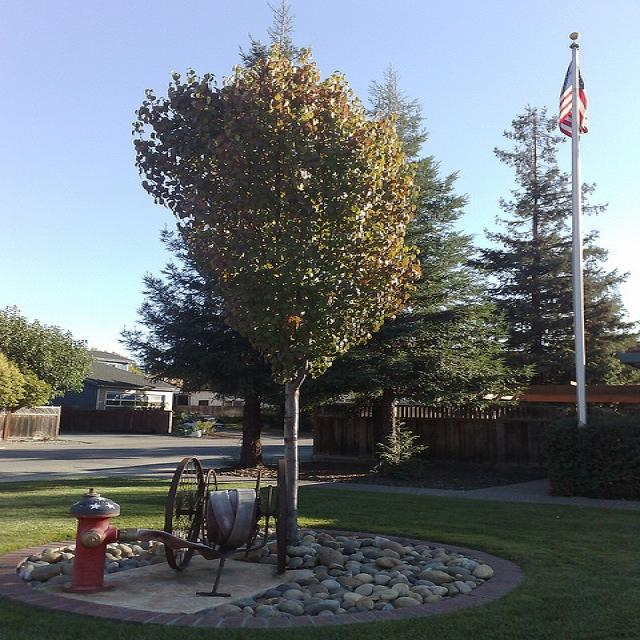fire_hydrant: (60, 486, 137, 593)
pole: (561, 30, 595, 423), (271, 376, 304, 540)
